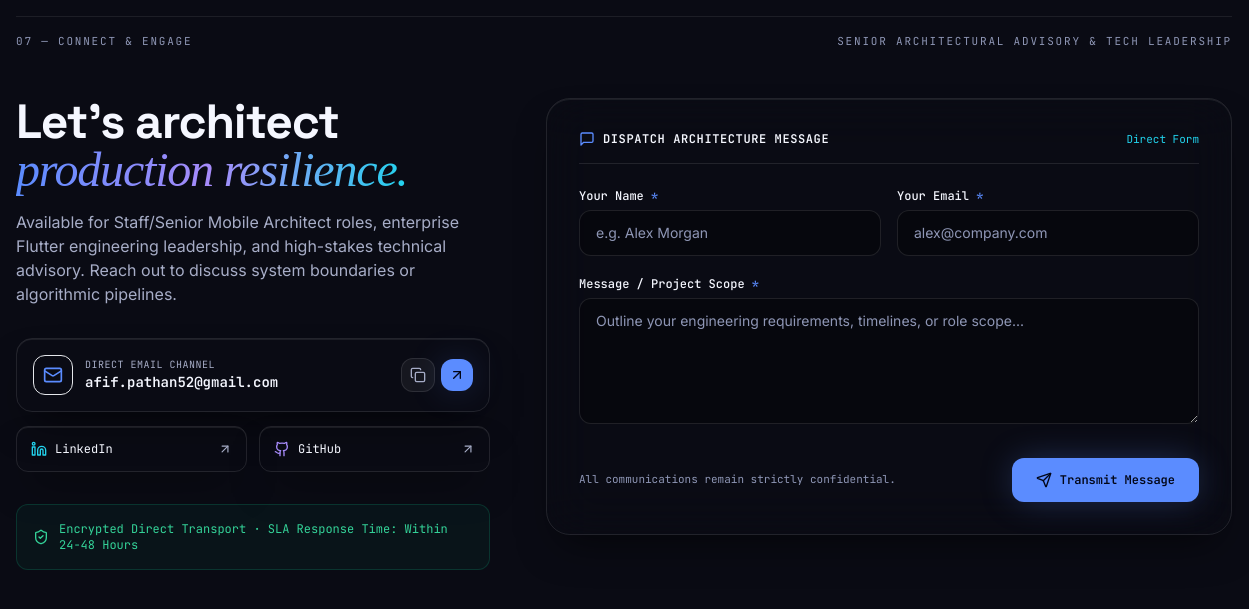
Test case: Contact Section & Form Validation › validates email format
Type "Alex Morgan" into the field labelled "Your Name *" at (730, 232), box [579,210,881,256]
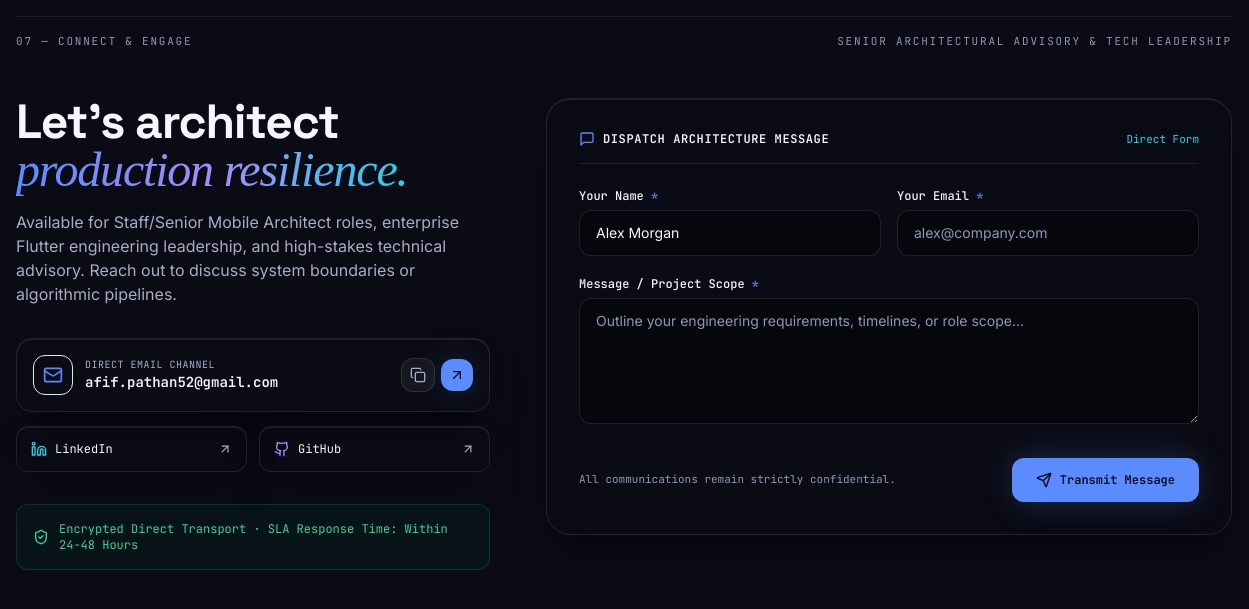
Type "not-an-email" into the field labelled "Your Email *" at (1048, 232), box [897,210,1199,256]
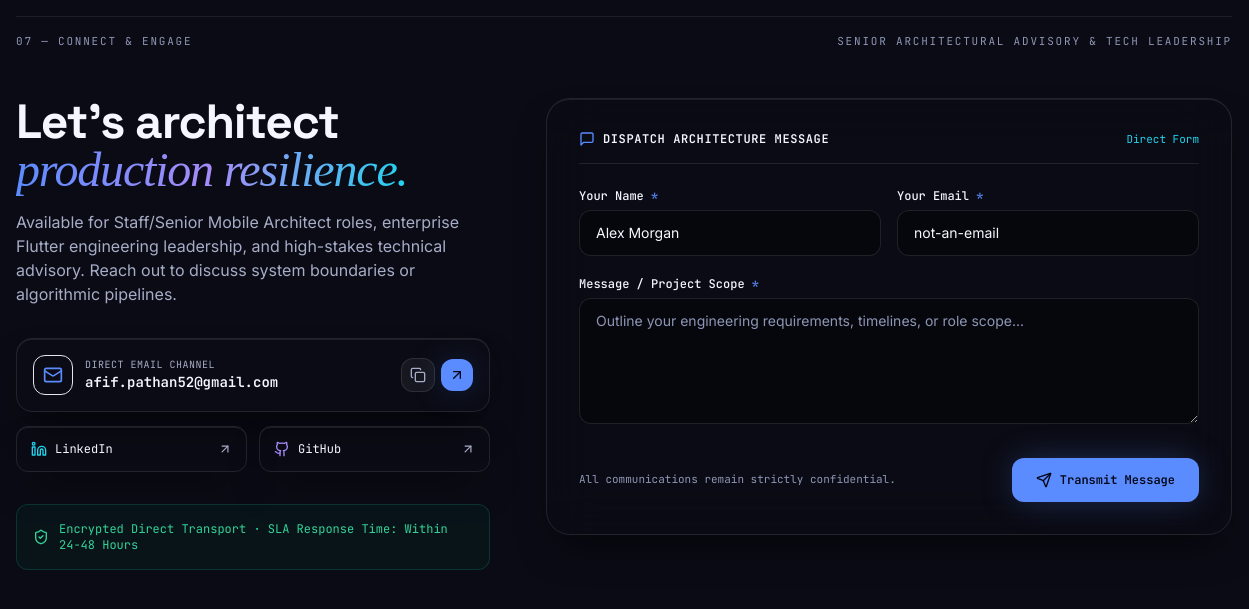
Click the button "Transmit Message" at (1105, 480), box [1012,458,1199,502]
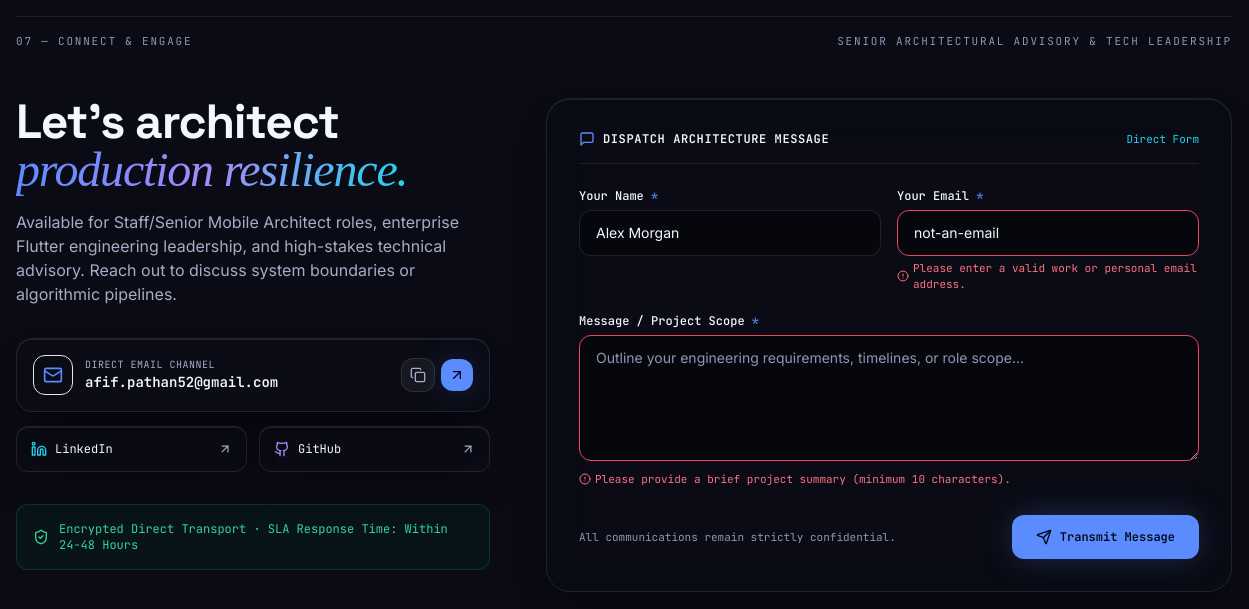
Now the text "Please enter a valid work or personal email address." is shown, box [913,260,1199,292]
